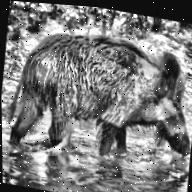boar: (6, 11, 191, 174)
